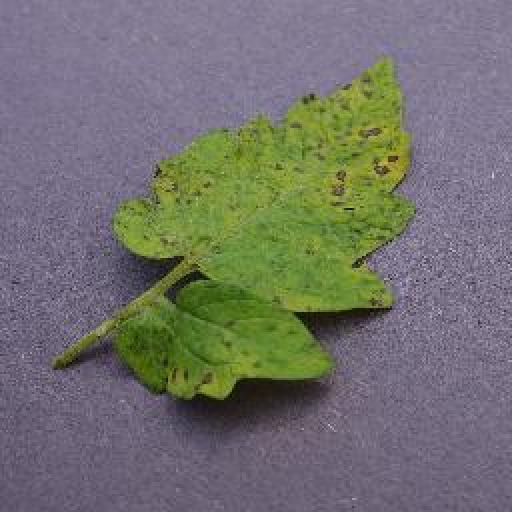Septoria: (115, 56, 418, 399)
